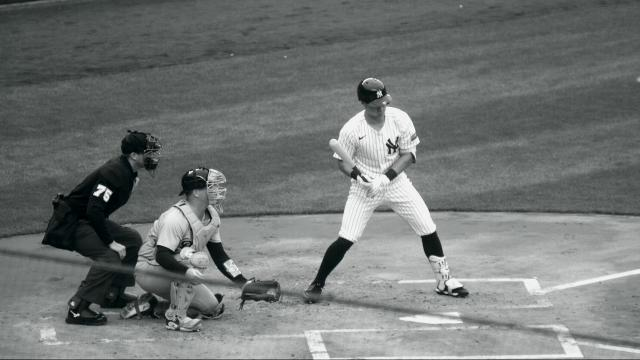bat: (329, 139, 365, 178)
